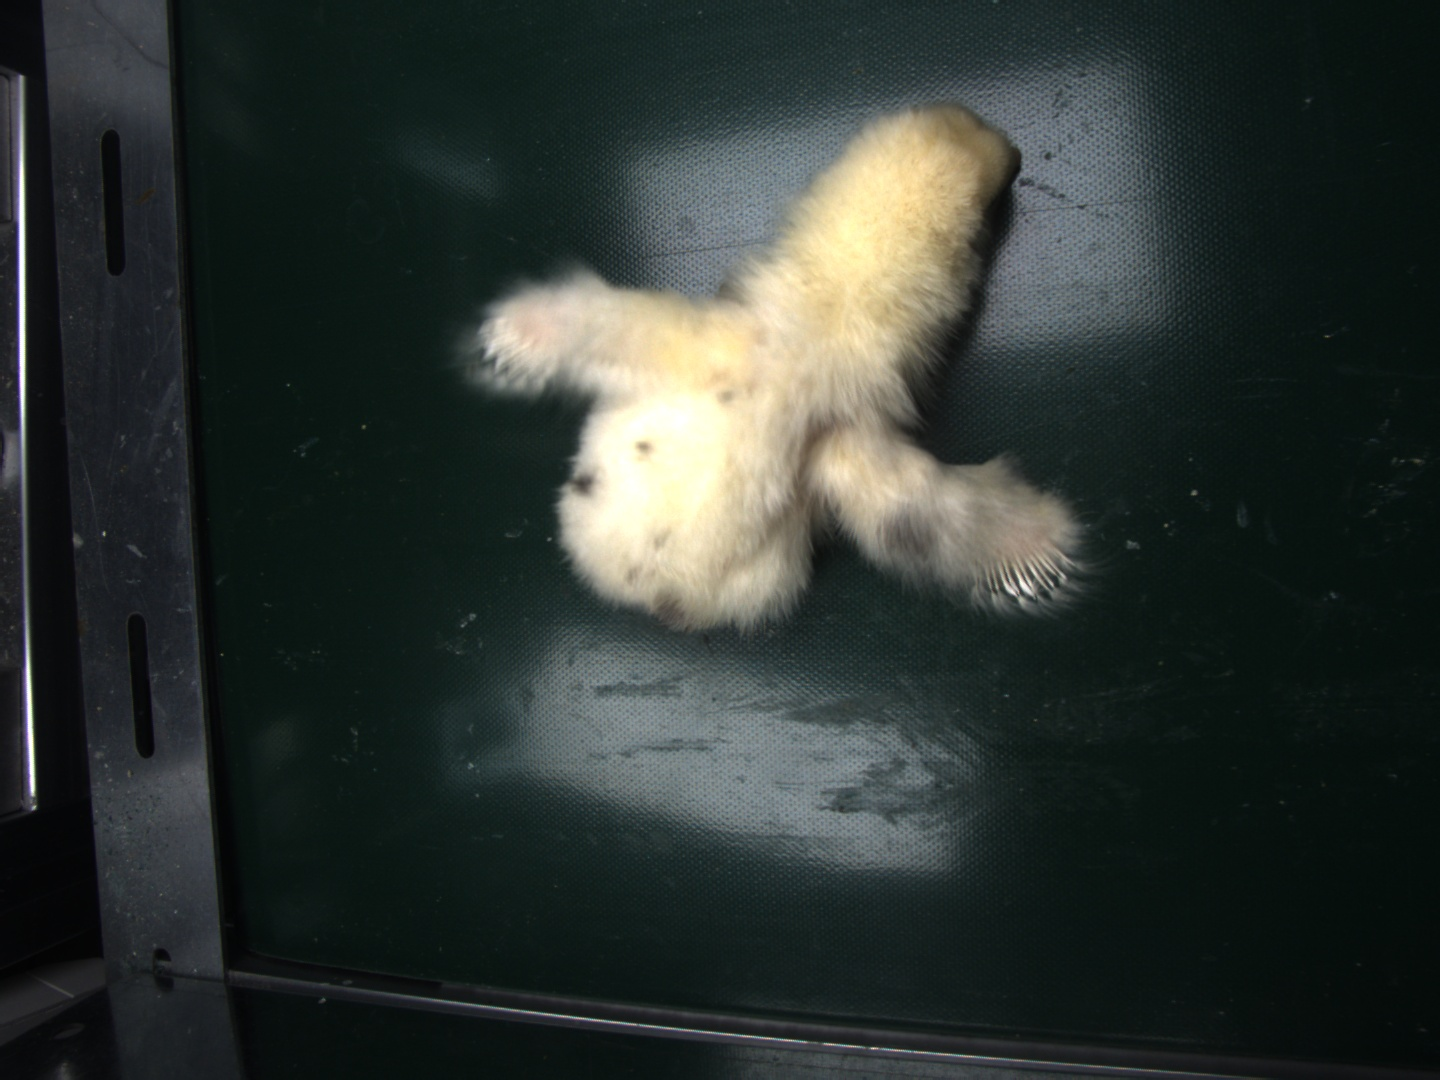male: (980, 546, 1083, 598)
